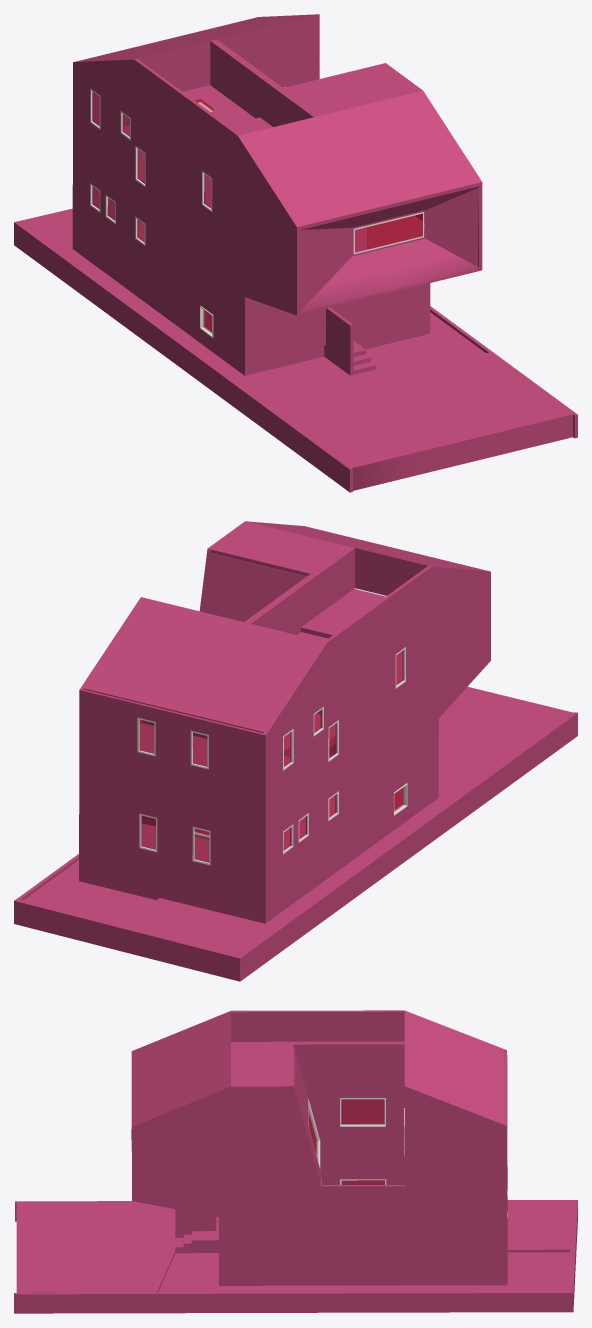
The model's file is asset.glb.
3 views of the same model, one above another, from view 1: azimuth 30°, elevation 25°; view 2: azimuth 150°, elevation 25°; view 3: azimuth 270°, elevation 25° (orthographic). The views are drawn at different scales.
Parts seen in each view (by area): view 1: 3D_FACADE_BLACK, 3D_FIRST FLOOR, 3D_FACADE_REFLECTIVE, 3D_SURROUNDING CONTEXT, 3D_WALL, 3D_FLOOR, 3D_WINDOW FRAMES, 3D_TURF, 3D_FACADE_REFLECTIVE.001, 3d_Glass, Windows frames, 3D_FACADE_WHITE; view 2: 3D_FACADE_BLACK, 3D_FIRST FLOOR, 3D_SURROUNDING CONTEXT, 3D_FACADE_WHITE, 3D_TURF, 3D_FLOOR, 3D_WINDOW FRAMES, 3d_Glass, Windows frames, 3D_WALL; view 3: 3D_FACADE_BLACK, 3D_FIRST FLOOR, 3D_SURROUNDING CONTEXT, 3D_FACADE_WHITE, 3D_TURF, 3d_Glass, Windows frames.
Part boxes in pixels (<box>): 3D_FACADE_BLACK: <box>72,14,482,363</box>; 3D_FIRST FLOOR: <box>31,212,572,490</box>; 3D_FACADE_REFLECTIVE: <box>300,186,478,314</box>; 3D_SURROUNDING CONTEXT: <box>14,208,577,492</box>; 3D_WALL: <box>141,18,316,91</box>; 3D_FLOOR: <box>124,85,470,262</box>; 3D_WINDOW FRAMES: <box>210,44,309,126</box>; 3D_TURF: <box>366,312,485,369</box>; 3D_FACADE_REFLECTIVE.001: <box>425,187,478,266</box>; 3d_Glass: <box>92,92,422,251</box>; Windows frames: <box>90,87,425,337</box>; 3D_FACADE_WHITE: <box>210,39,282,91</box>; 3D_FACADE_BLACK: <box>79,521,490,911</box>; 3D_FIRST FLOOR: <box>79,686,574,950</box>; 3D_SURROUNDING CONTEXT: <box>14,712,577,981</box>; 3D_FACADE_WHITE: <box>203,553,317,756</box>; 3D_TURF: <box>24,860,156,924</box>; 3D_FLOOR: <box>139,588,386,766</box>; 3D_WINDOW FRAMES: <box>254,552,354,634</box>; 3d_Glass: <box>140,650,403,862</box>; Windows frames: <box>137,647,407,865</box>; 3D_WALL: <box>142,551,424,839</box>; 3D_FACADE_BLACK: <box>131,1010,507,1272</box>; 3D_FIRST FLOOR: <box>16,1201,571,1292</box>; 3D_SURROUNDING CONTEXT: <box>14,1200,577,1313</box>; 3D_FACADE_WHITE: <box>293,1041,404,1184</box>; 3D_TURF: <box>158,1252,569,1292</box>; 3d_Glass: <box>309,1099,384,1184</box>; Windows frames: <box>308,1098,507,1217</box>.
Size of the model in its own units: 14.52 by 15.8 by 37.21.
